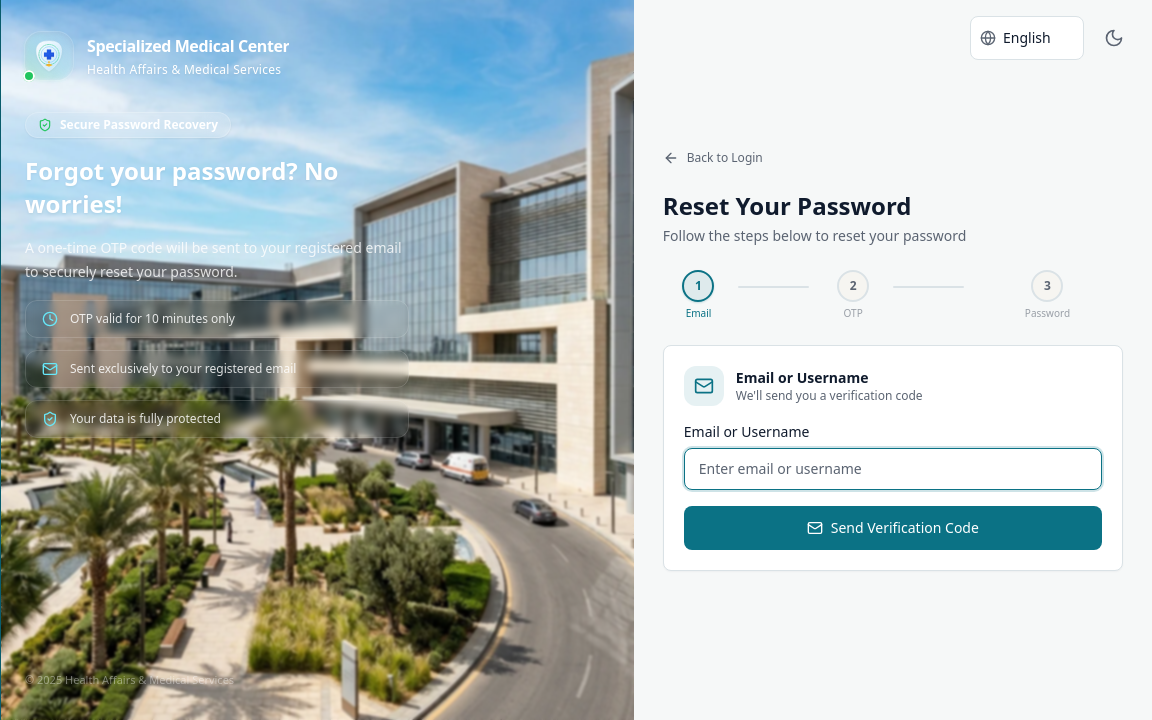
Test: ForgotPasswordPage recovery flow › surfaces delivery failures instead of reporting the account as missing
The width and height of the screenshot is (1152, 720).
Step 1. Type "admin@hospital.sa" into the field labelled "Email or Username" → [893, 468], box [684,448,1102,490]
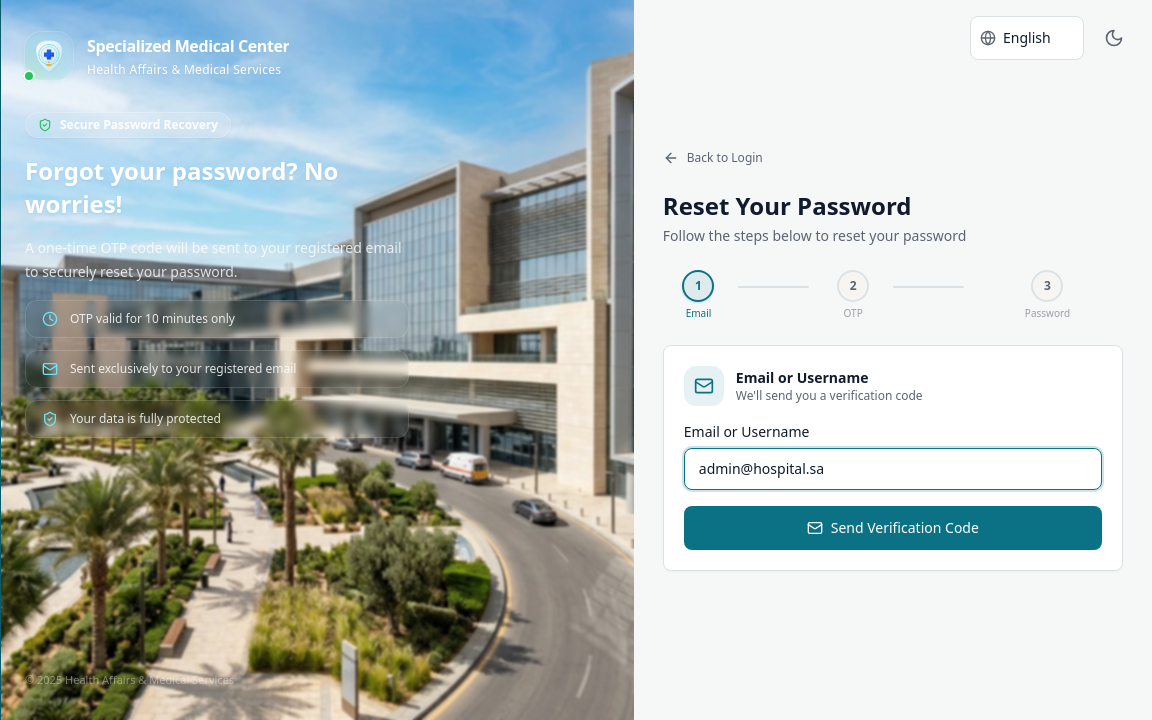
Step 2. Click the button "Send Verification Code" → [893, 528], box [684,506,1102,550]
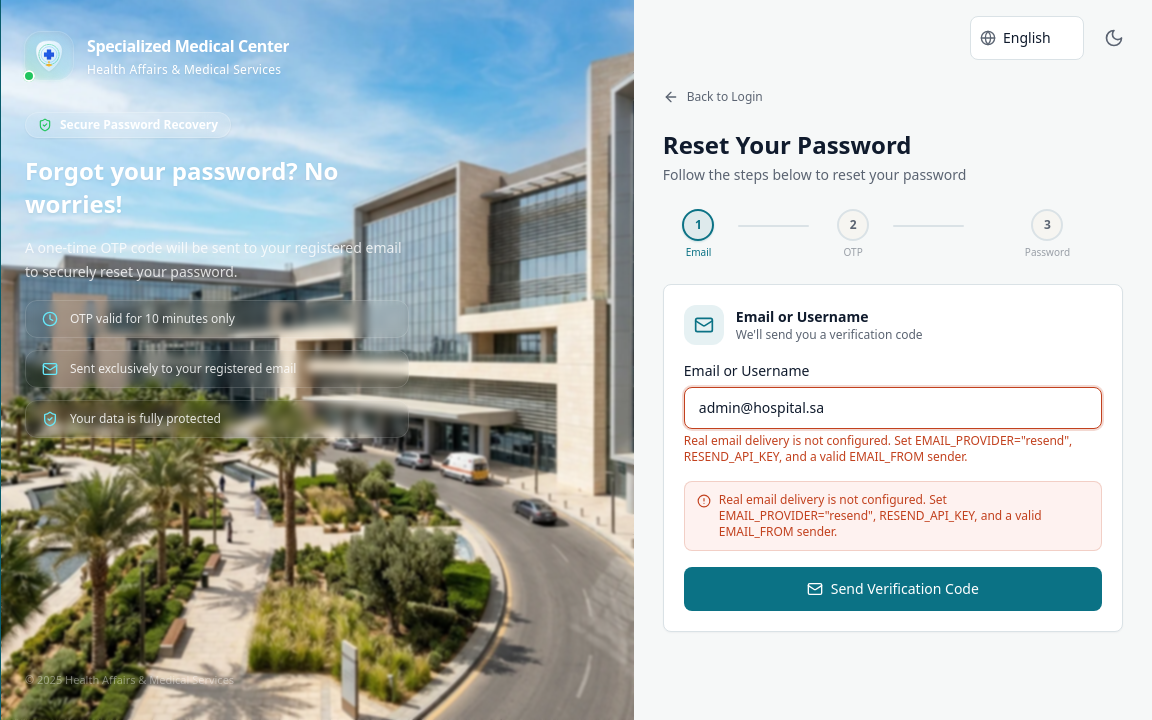
Check: the message shows "Real email delivery is not configured.", box [684,432,1072,464]
